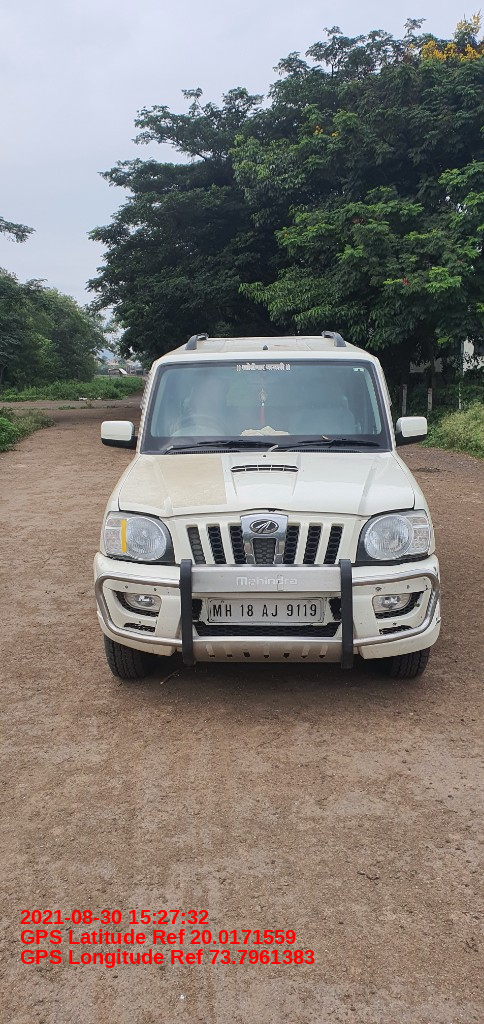Scratched: (420, 574, 432, 592), (431, 565, 443, 581), (434, 614, 445, 628), (371, 583, 385, 593), (122, 581, 132, 592), (389, 619, 400, 629), (413, 600, 423, 610), (147, 586, 160, 593), (405, 579, 411, 590), (136, 618, 145, 625)
